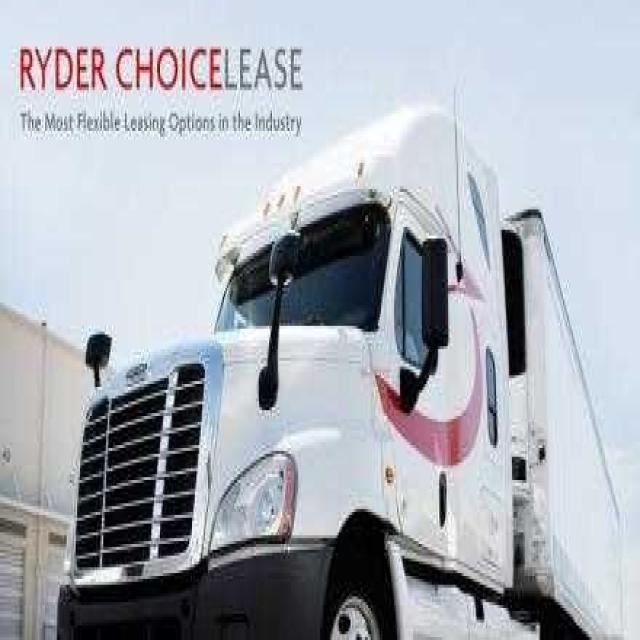Truck: (50, 86, 630, 640)
